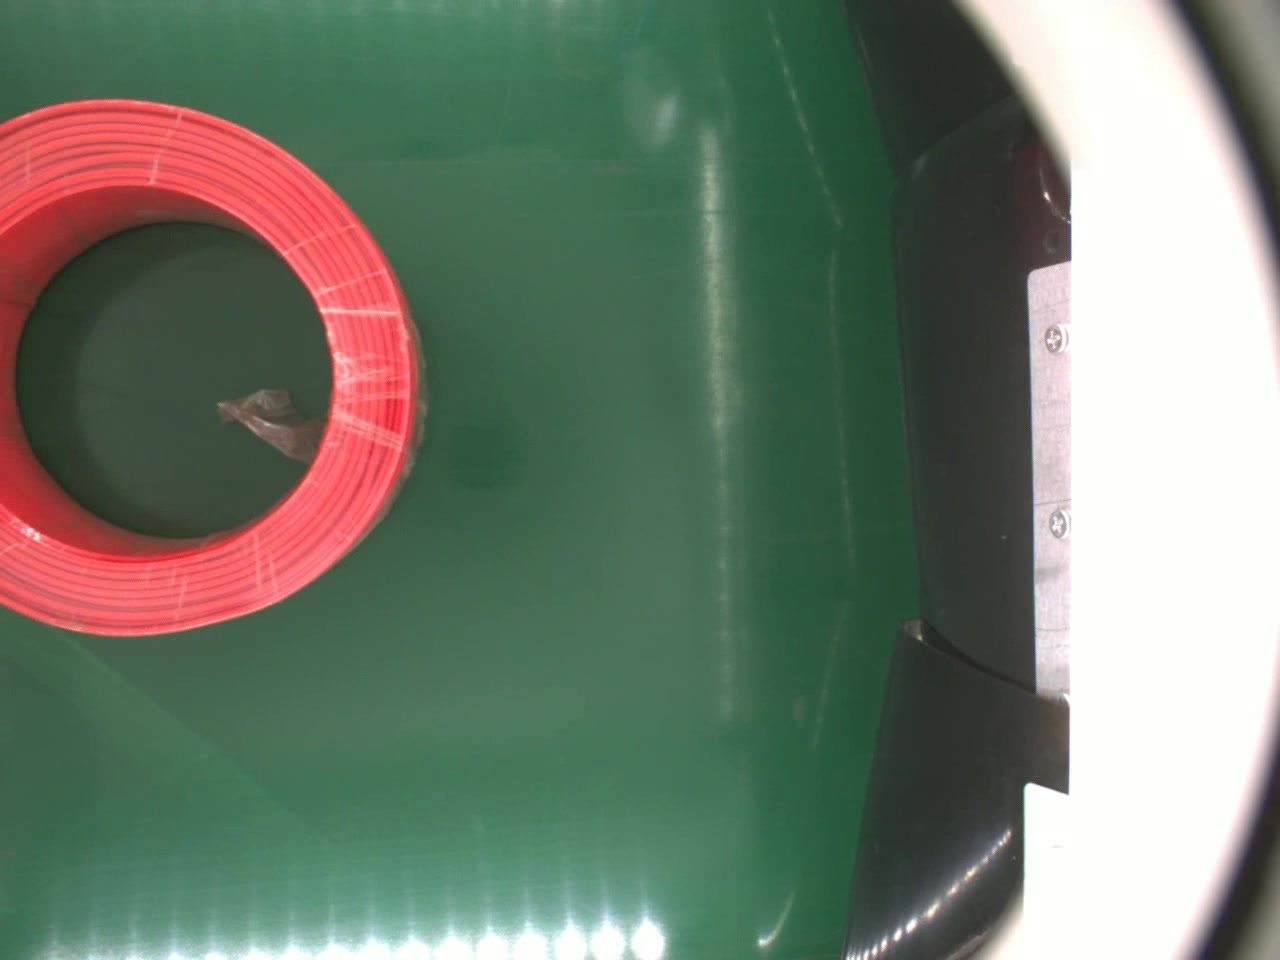red: (0, 94, 427, 638)
